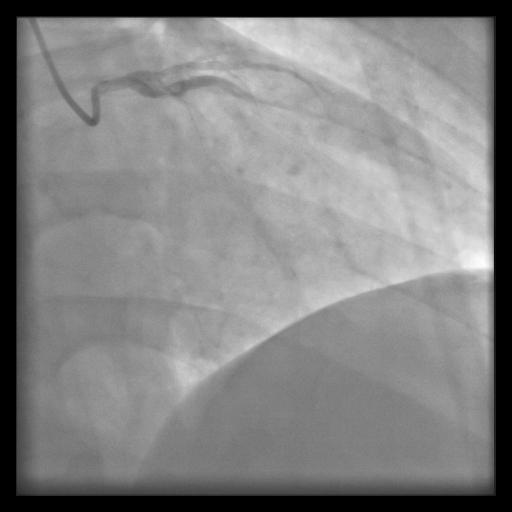Stenosis: (150, 78, 183, 102)
